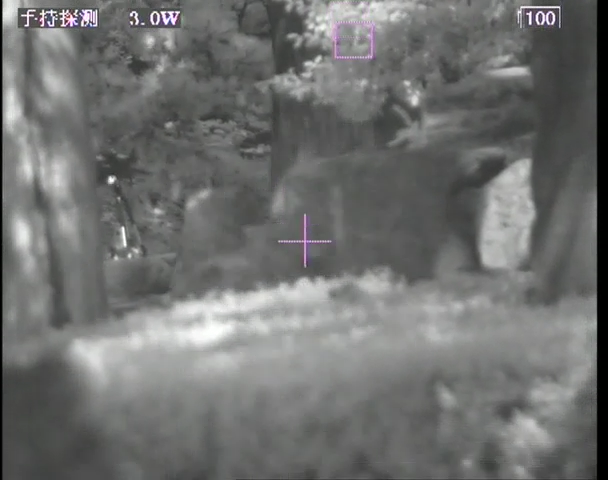my: (104, 173, 118, 188)
